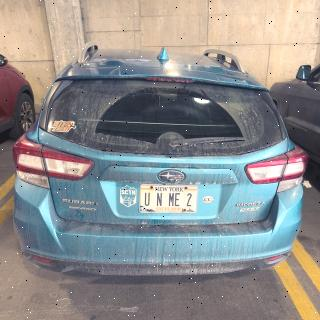license: (139, 184, 200, 215)
